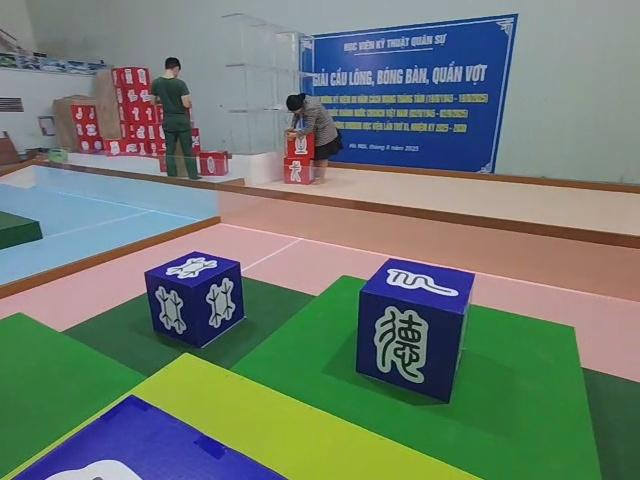R2 Fake Blue: (356, 257, 476, 406)
R2 Real Blue: (145, 250, 248, 349)
